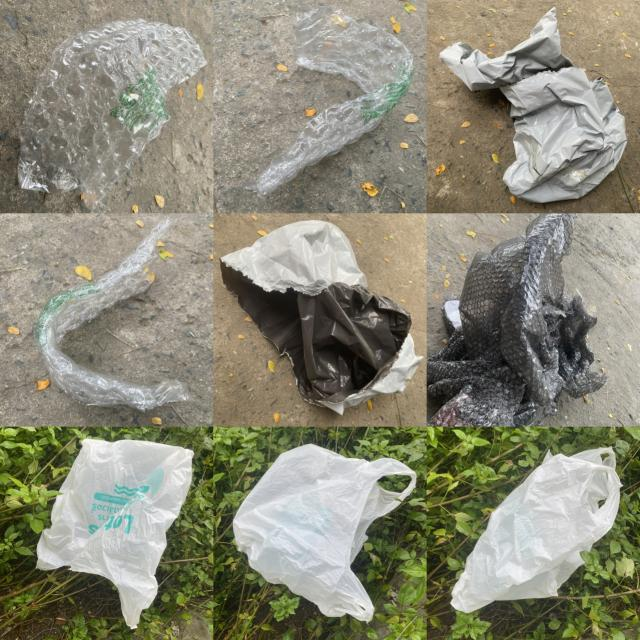Single-layer Plastic: (221, 220, 422, 414), (428, 214, 608, 426), (18, 19, 206, 212), (440, 8, 626, 202), (234, 444, 416, 621), (244, 6, 414, 195), (35, 215, 192, 411), (36, 439, 194, 629), (451, 448, 621, 612)
